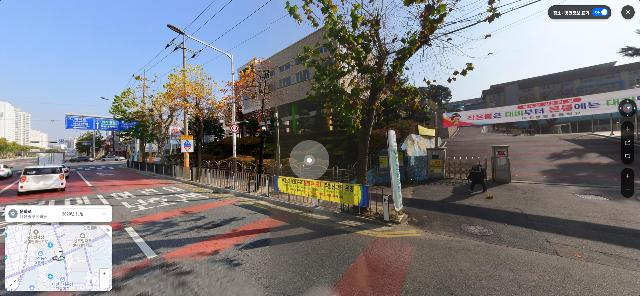ginkgo: (154, 63, 230, 168)
other: (285, 1, 547, 213), (220, 57, 284, 175), (106, 75, 184, 165)
